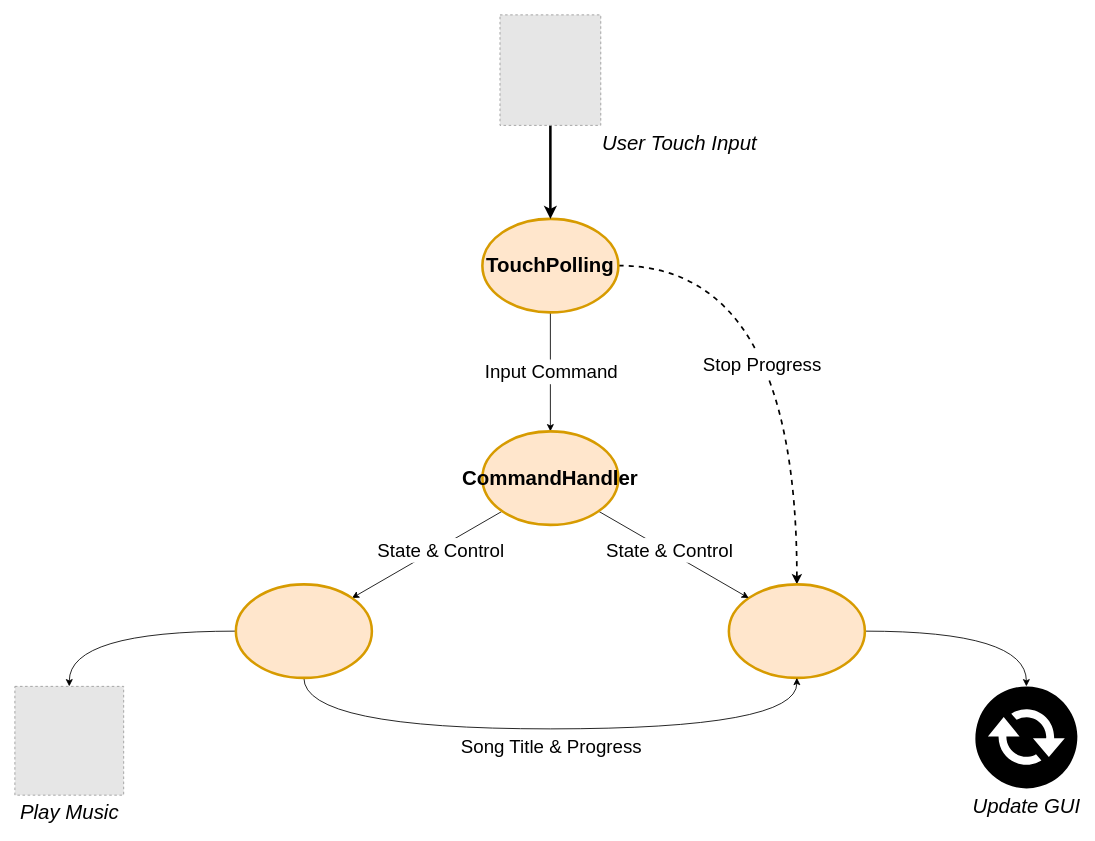
This 1095x841 diagram has some shape labels left out. Grey dashed boxes stand in for pictures. The box of each missing label's shape, as (x1, y1, x2, y2) in pixels:
LcdHandler: (727, 583, 866, 679)
Streaming: (234, 583, 373, 679)
